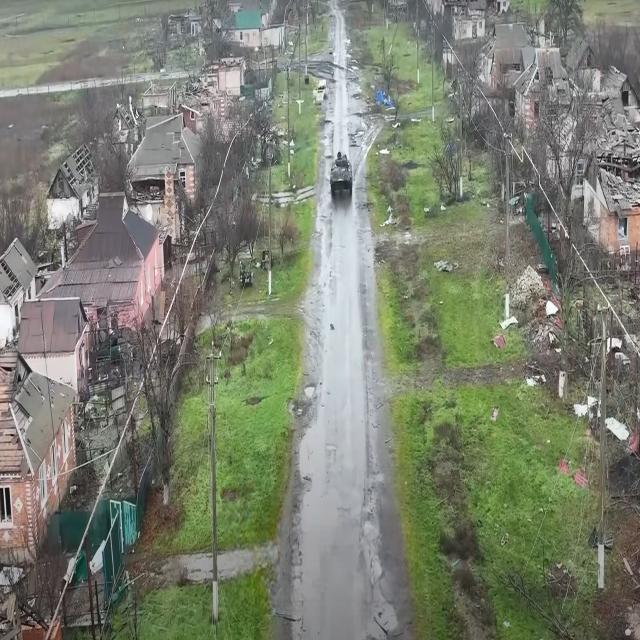AIFV: (331, 151, 354, 200)
Vehicle: (315, 77, 330, 104)
